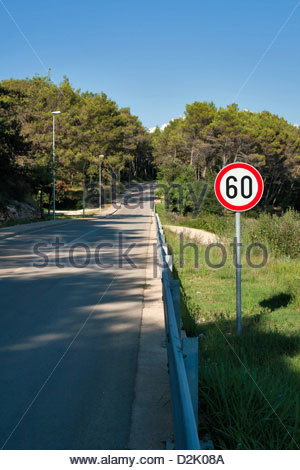Speed_limit_60km: (214, 161, 264, 212)
